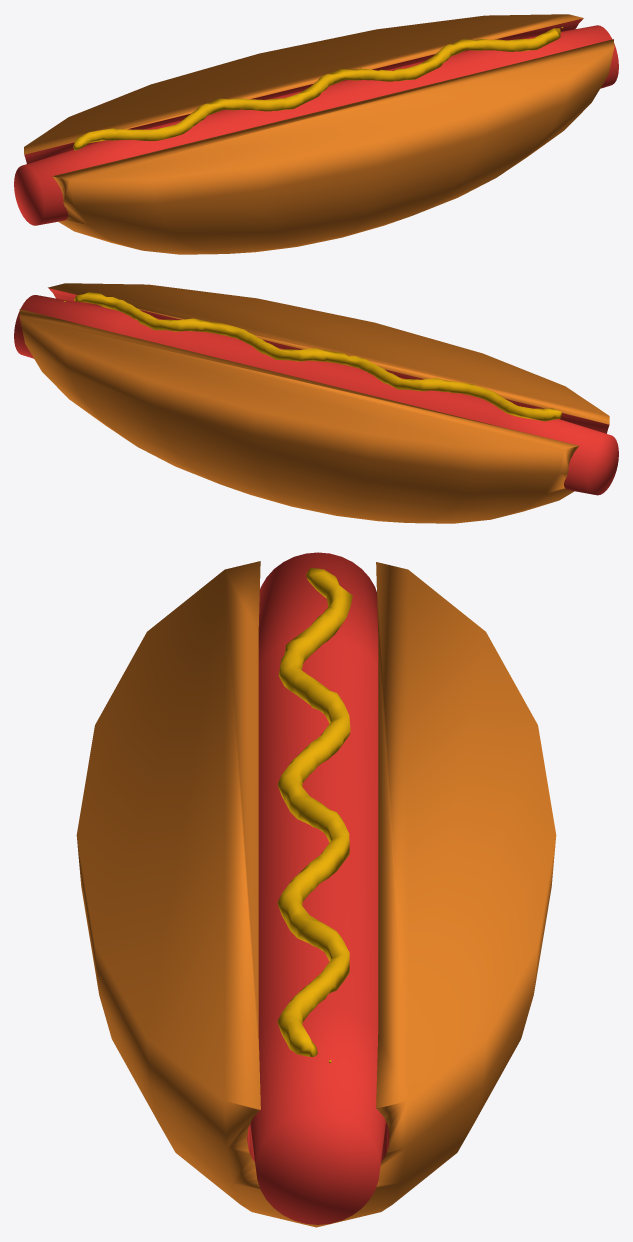
The model's file is HotDog.fbx.
The picture shows the model from 3 angles, top to bottom: view 1: azimuth 30°, elevation 25°; view 2: azimuth 150°, elevation 25°; view 3: azimuth 270°, elevation 25°; orthographic projection. The views are drawn at different scales.
Visible parts, largest first — view 1: Hotdog; view 2: Hotdog; view 3: Hotdog.
Part boxes in pixels (x1=…): Hotdog: x1=14, y1=14, x2=618, y2=254; Hotdog: x1=14, y1=283, x2=618, y2=523; Hotdog: x1=76, y1=552, x2=556, y2=1227.
Size of the model in its own units: 20.01 by 4.98 by 7.18.
